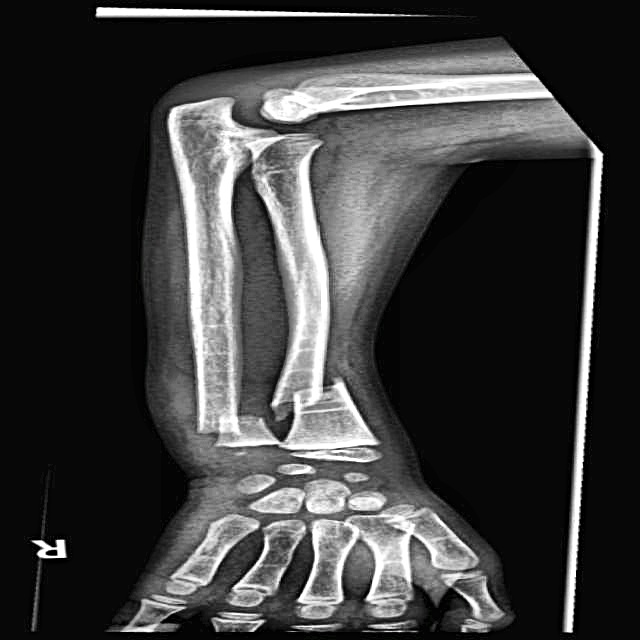Oblique: (258, 355, 366, 417)
Transverse: (166, 410, 265, 458)
